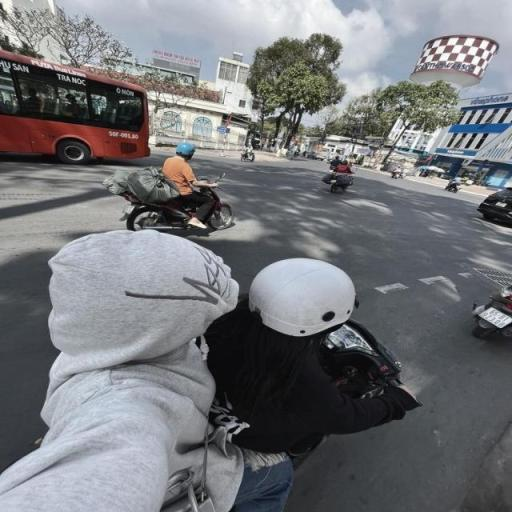with helmet: (244, 256, 359, 341), (176, 142, 196, 161)
